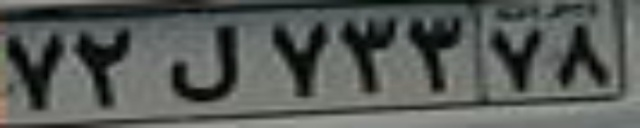2: (73, 26, 136, 107)
3: (340, 15, 398, 95), (406, 15, 463, 94)
7: (269, 20, 332, 97), (2, 30, 61, 111), (491, 26, 543, 93)
8: (559, 25, 613, 88)
lam: (167, 23, 242, 101)
